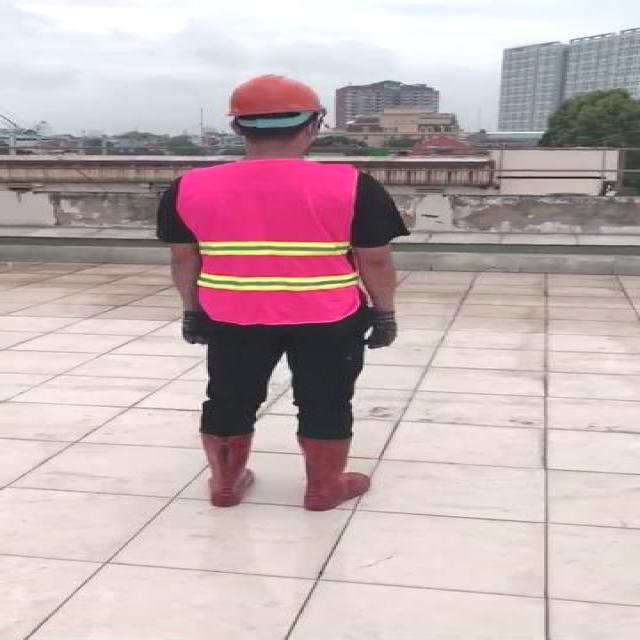boots: (295, 433, 372, 511), (182, 432, 259, 507)
hand_glove: (358, 309, 403, 349), (174, 312, 215, 346)
head_helmet: (222, 71, 334, 118)
person: (142, 69, 414, 512)
vest: (182, 160, 364, 322)
